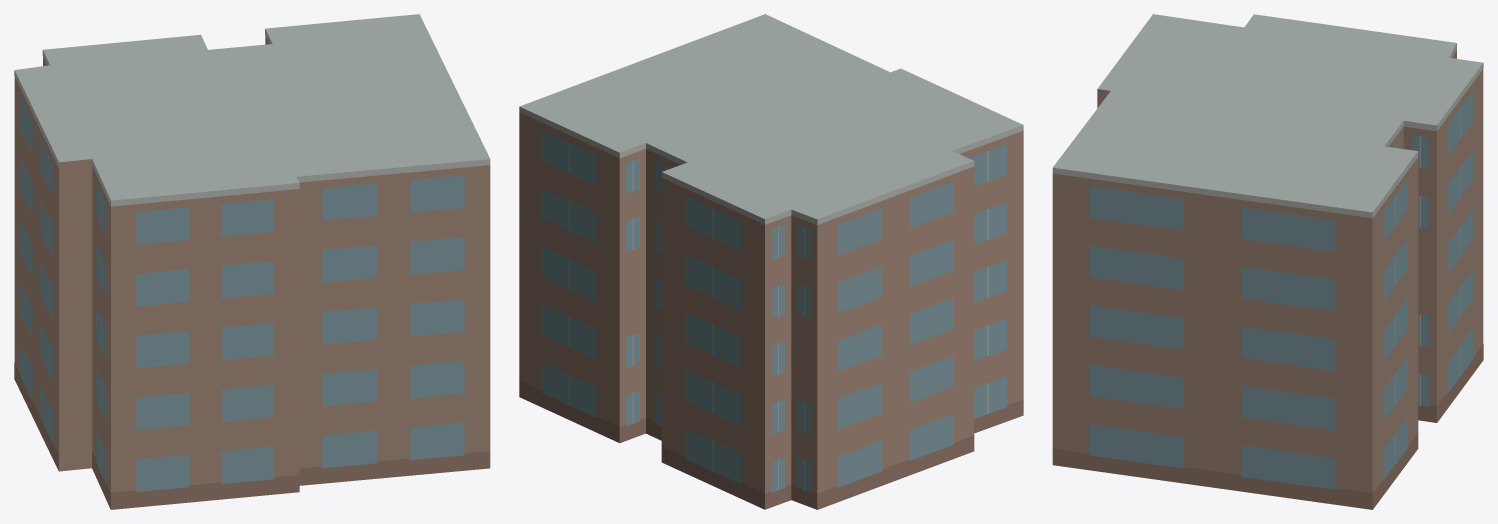
The model's file is survey-upis-32930134.glb.
3 renders of one model, left to right at view 1: azimuth 30°, elevation 25°; view 2: azimuth 150°, elevation 25°; view 3: azimuth 270°, elevation 25°, orthographic. The views are drawn at different scales.
Visible parts, largest first — view 1: survey-upis-32930134.tmp; view 2: survey-upis-32930134.tmp; view 3: survey-upis-32930134.tmp.
Part boxes in pixels (box(x1,y1,x2,y2)): survey-upis-32930134.tmp: box(14, 14, 490, 509); survey-upis-32930134.tmp: box(519, 14, 1023, 509); survey-upis-32930134.tmp: box(1052, 14, 1483, 509).
Bounding box in the file's own units: 17.97 × 12.55 × 16.49.
